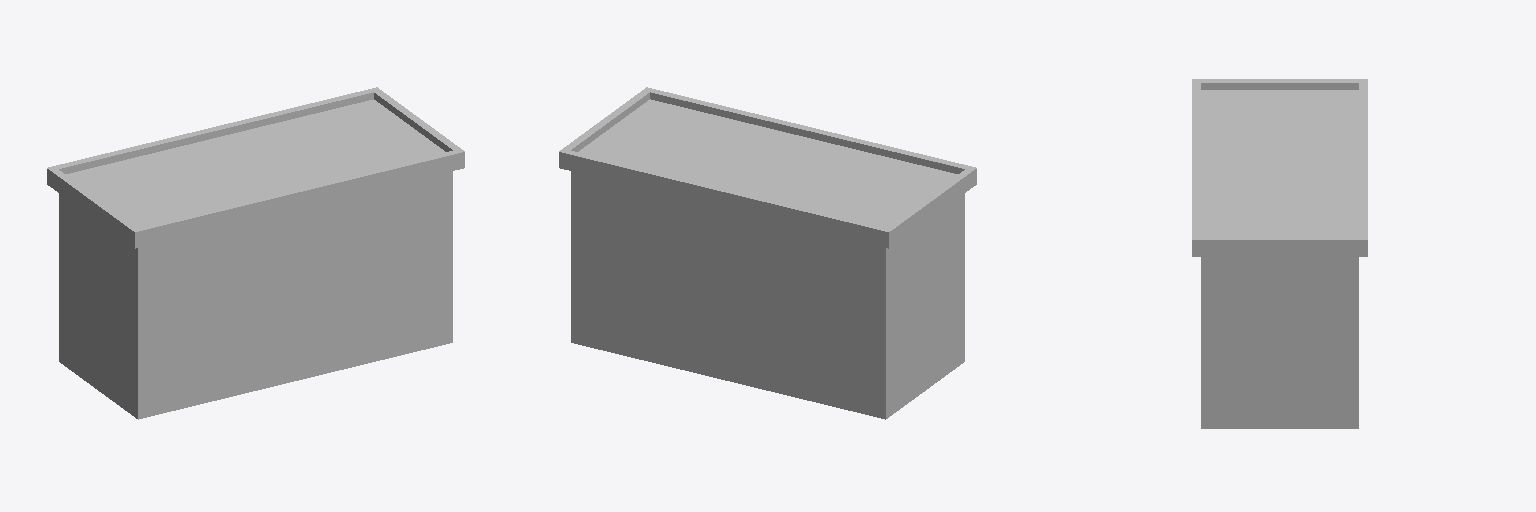
The model's file is Building_13.obj.
The picture shows the model from 3 angles: view 1: azimuth 30°, elevation 25°; view 2: azimuth 150°, elevation 25°; view 3: azimuth 270°, elevation 25°; orthographic projection.
Parts seen in each view (by area): view 1: Building_13; view 2: Building_13; view 3: Building_13.
Part boxes in pixels (left/top/right/bottom): Building_13: left=47, top=87, right=464, bottom=419; Building_13: left=559, top=87, right=976, bottom=419; Building_13: left=1192, top=79, right=1367, bottom=428.
Size of the model in its own units: 7.68 by 4.27 by 3.55.